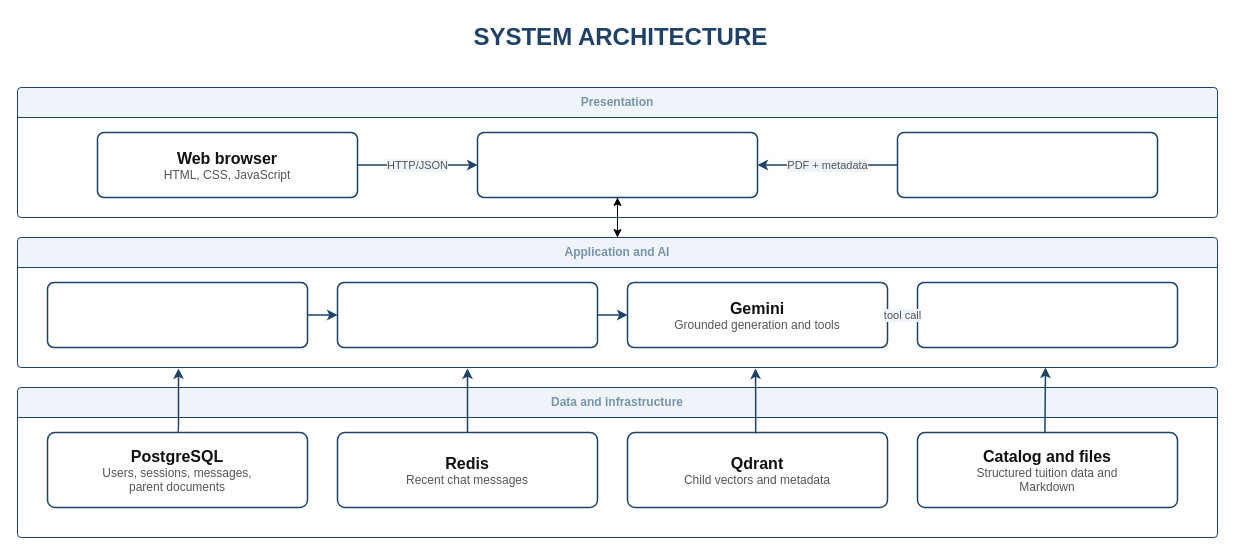
This 1235x555 diagram has some shape labels left out. The shapes that lost their labels are listed below. From the top down, each one's centre as x and y in pixels, then its label:
At pixel 617 164: "FastAPI Auth, chat, history, document APIs".
At pixel 1027 164: "Administrator Authenticated PDF upload".
At pixel 177 314: "Intent router Safe rewrite and metadata lanes".
At pixel 467 314: "RAG engine Parent-child retrieval and reranking".
At pixel 1047 314: "Tools Scholarship and tuition".
